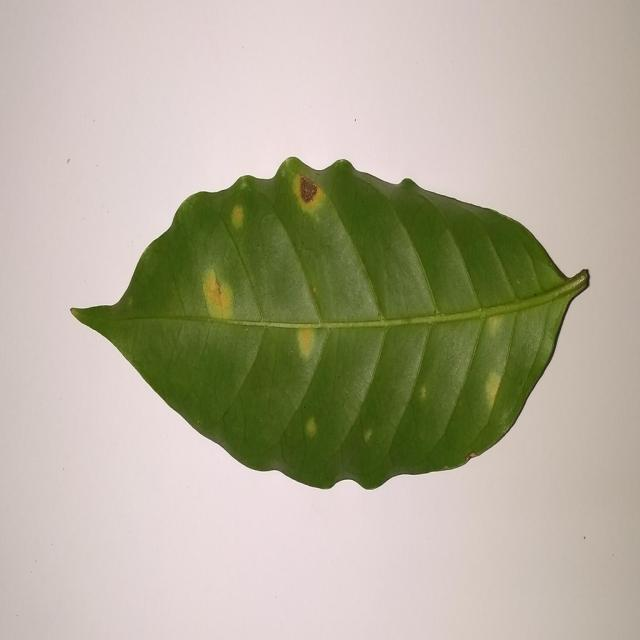rust: (281, 158, 326, 216), (201, 268, 239, 323), (296, 324, 327, 361)
